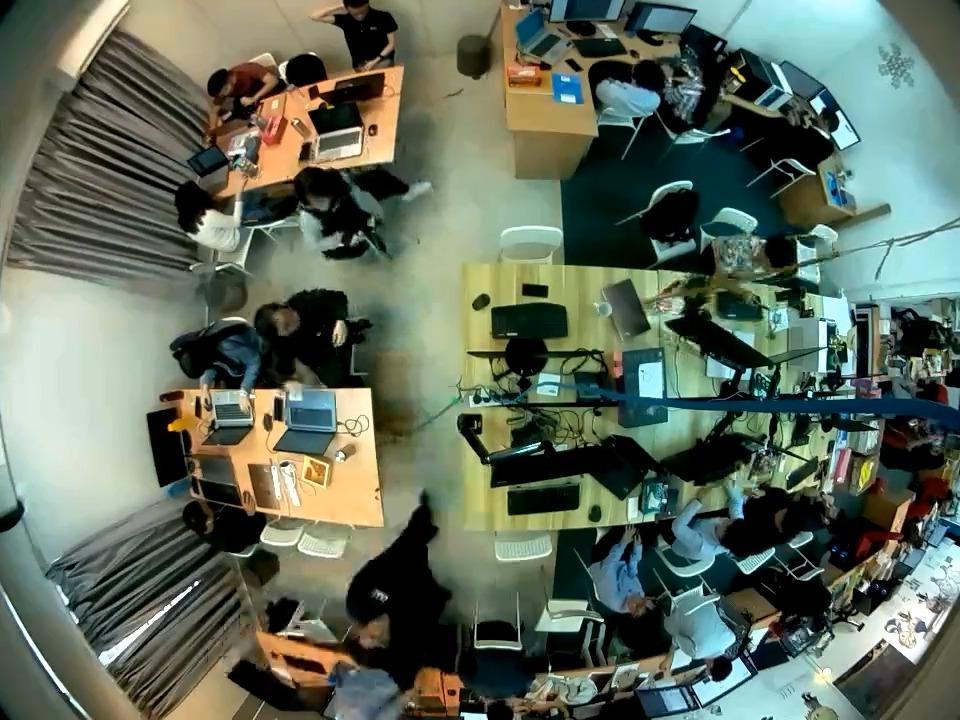name-tag: (368, 587, 394, 605)
